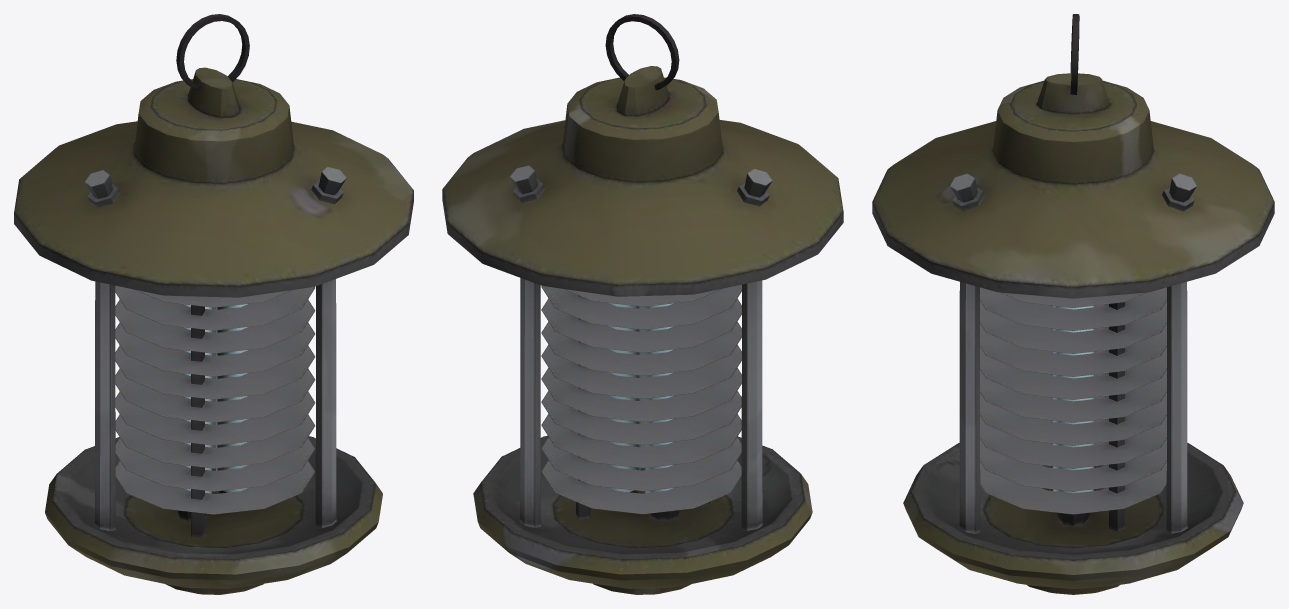
3 views of the same model, side by side, from view 1: azimuth 30°, elevation 25°; view 2: azimuth 150°, elevation 25°; view 3: azimuth 270°, elevation 25° (orthographic).
Visible parts, largest first — view 1: body0_model0_lod0_mesh0, body0_model0_lod0_mesh1; view 2: body0_model0_lod0_mesh0, body0_model0_lod0_mesh1; view 3: body0_model0_lod0_mesh0, body0_model0_lod0_mesh1.
Part boxes in pixels (<box>): body0_model0_lod0_mesh0: <box>14,14,413,594</box>; body0_model0_lod0_mesh1: <box>184,304,248,493</box>; body0_model0_lod0_mesh0: <box>442,14,843,594</box>; body0_model0_lod0_mesh1: <box>608,303,673,493</box>; body0_model0_lod0_mesh0: <box>872,14,1274,594</box>; body0_model0_lod0_mesh1: <box>1053,306,1093,493</box>.
Bounding box in the file's own units: 23.79 × 36.36 × 23.79.
2 materials, 2 textured.
